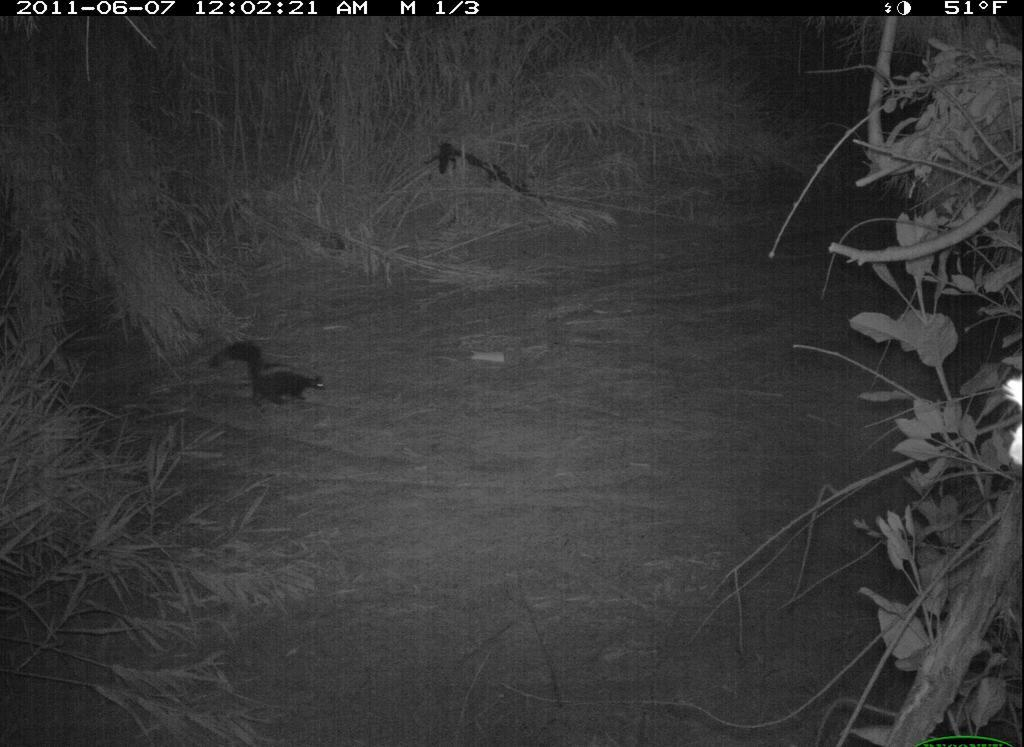skunk: (201, 327, 336, 419)
